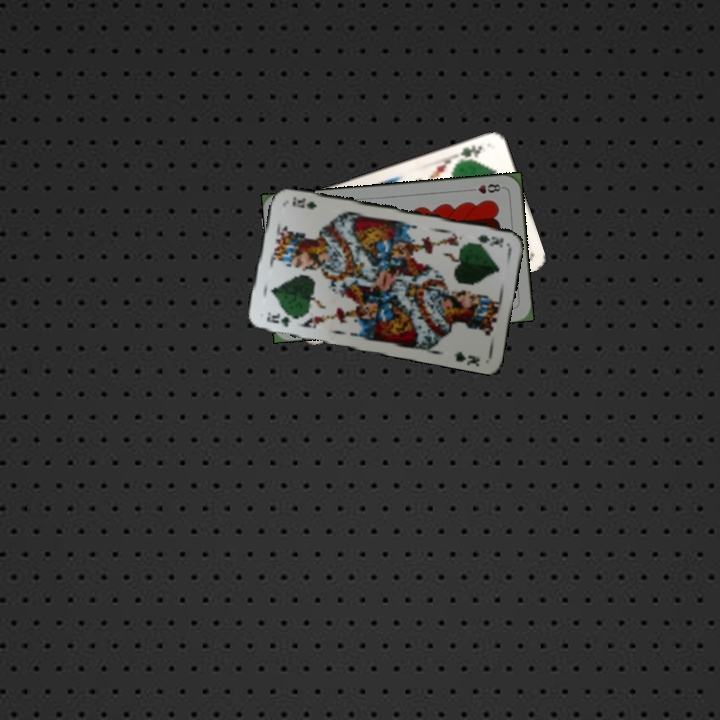GK: (263, 308, 294, 329), (473, 230, 506, 249), (452, 141, 484, 160)
H8: (465, 180, 506, 196)
